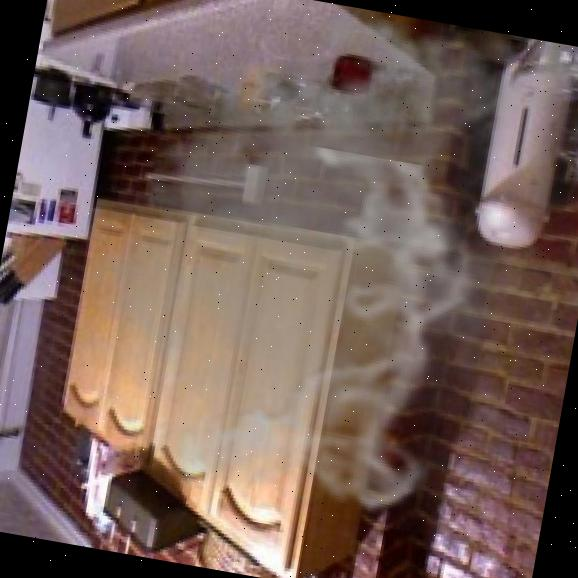smoke: (33, 0, 578, 554)
